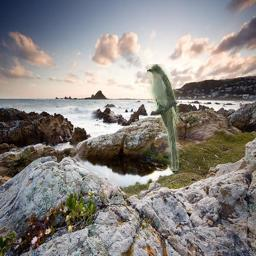Cuckoo: (147, 65, 179, 172)
